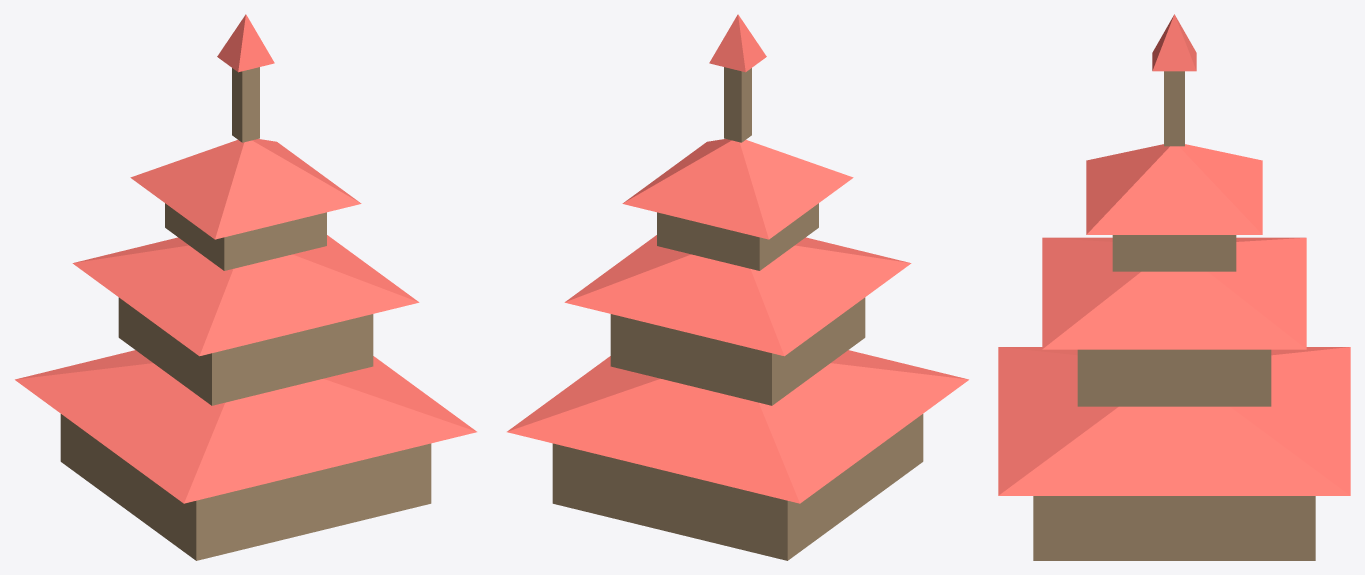
Rendered from pagoda.gltf.
The picture shows the model from 3 angles, left to right: view 1: azimuth 30°, elevation 25°; view 2: azimuth 150°, elevation 25°; view 3: azimuth 270°, elevation 25°; orthographic projection. The views are drawn at different scales.
Parts seen in each view (by area): view 1: tier1Roof, tier2Roof, tier1Body, tier3Roof, tier2Body, tier3Body, spireBody, spireCap; view 2: tier1Roof, tier2Roof, tier1Body, tier3Roof, tier2Body, tier3Body, spireBody, spireCap; view 3: tier1Roof, tier2Roof, tier1Body, tier3Roof, tier2Body, tier3Body, spireCap, spireBody.
Boxes of the visible parts, left/top/right/bottom form: tier1Roof: left=15, top=350, right=476, bottom=503; tier2Roof: left=72, top=235, right=419, bottom=356; tier1Body: left=60, top=414, right=431, bottom=560; tier3Roof: left=130, top=139, right=361, bottom=239; tier2Body: left=118, top=297, right=373, bottom=405; tier3Body: left=165, top=203, right=326, bottom=270; spireBody: left=232, top=67, right=259, bottom=142; spireCap: left=217, top=14, right=274, bottom=72; tier1Roof: left=507, top=350, right=968, bottom=503; tier2Roof: left=564, top=235, right=911, bottom=356; tier1Body: left=552, top=414, right=923, bottom=560; tier3Roof: left=622, top=139, right=853, bottom=239; tier2Body: left=610, top=297, right=865, bottom=405; tier3Body: left=657, top=203, right=818, bottom=270; spireBody: left=724, top=67, right=751, bottom=142; spireCap: left=709, top=14, right=766, bottom=72; tier1Roof: left=998, top=347, right=1350, bottom=495; tier2Roof: left=1042, top=237, right=1306, bottom=349; tier1Body: left=1033, top=496, right=1315, bottom=560; tier3Roof: left=1086, top=144, right=1262, bottom=234; tier2Body: left=1077, top=349, right=1271, bottom=406; tier3Body: left=1112, top=235, right=1236, bottom=271; spireCap: left=1152, top=14, right=1196, bottom=71; spireBody: left=1164, top=71, right=1184, bottom=146.
Size of the model in its own units: 2 by 3.05 by 2.
